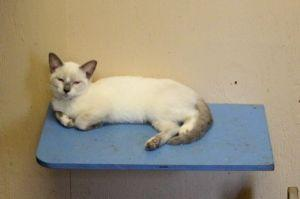siamese: (41, 48, 102, 107)
